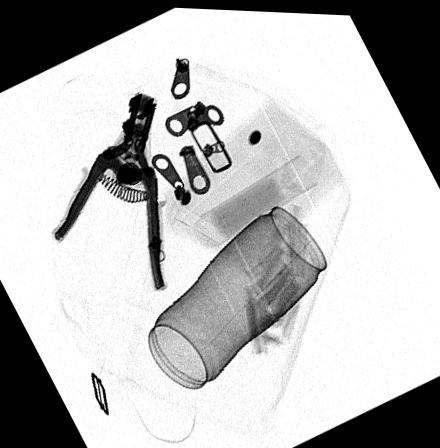Pliers: (52, 90, 163, 289)
